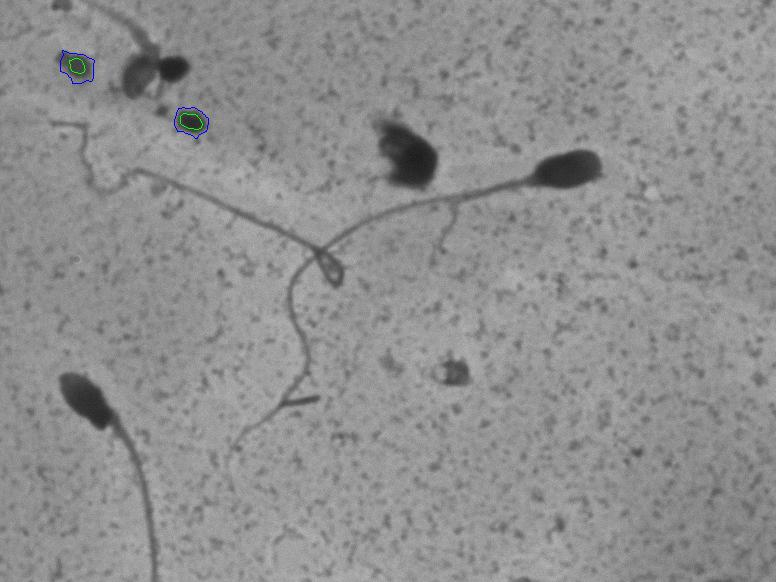Abnormal: (212, 134, 614, 506), (43, 354, 185, 570)
